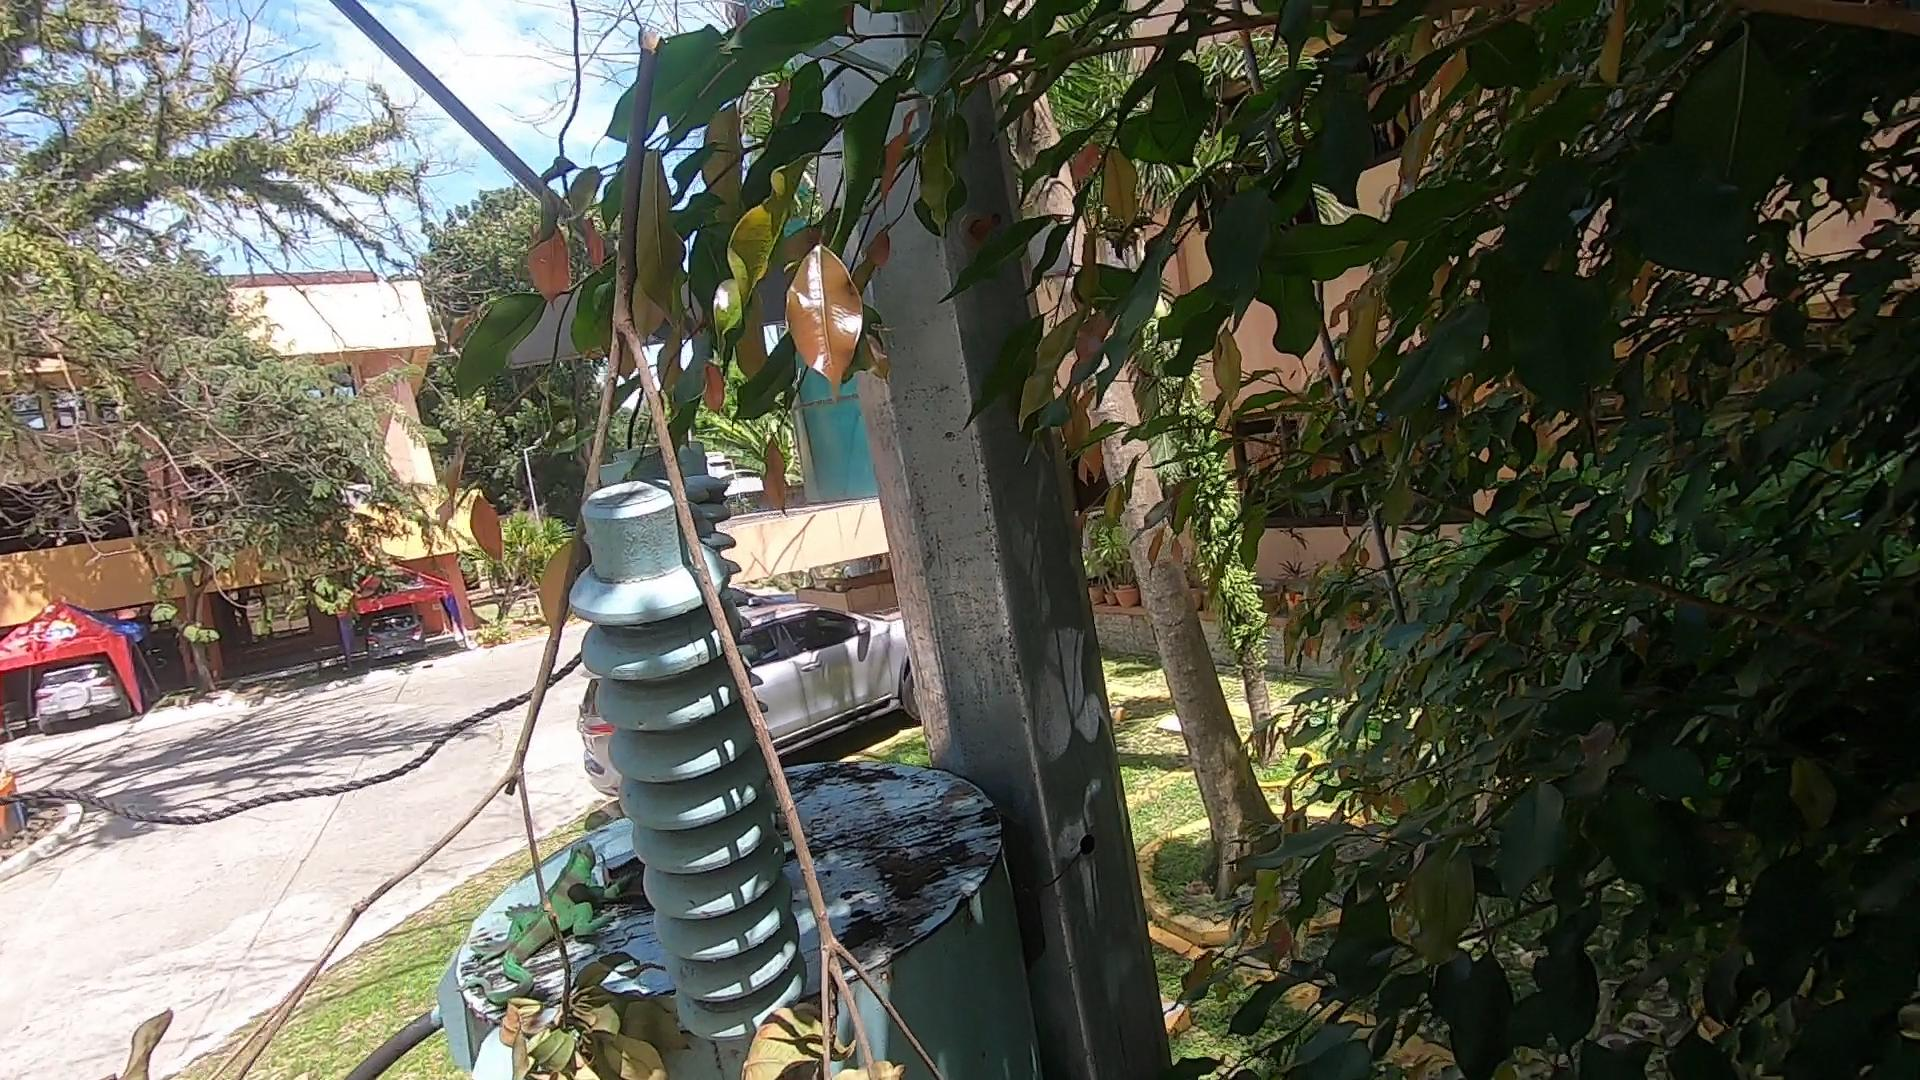branch with leaves: (94, 32, 956, 1080)
leaf: (596, 851, 651, 924)
